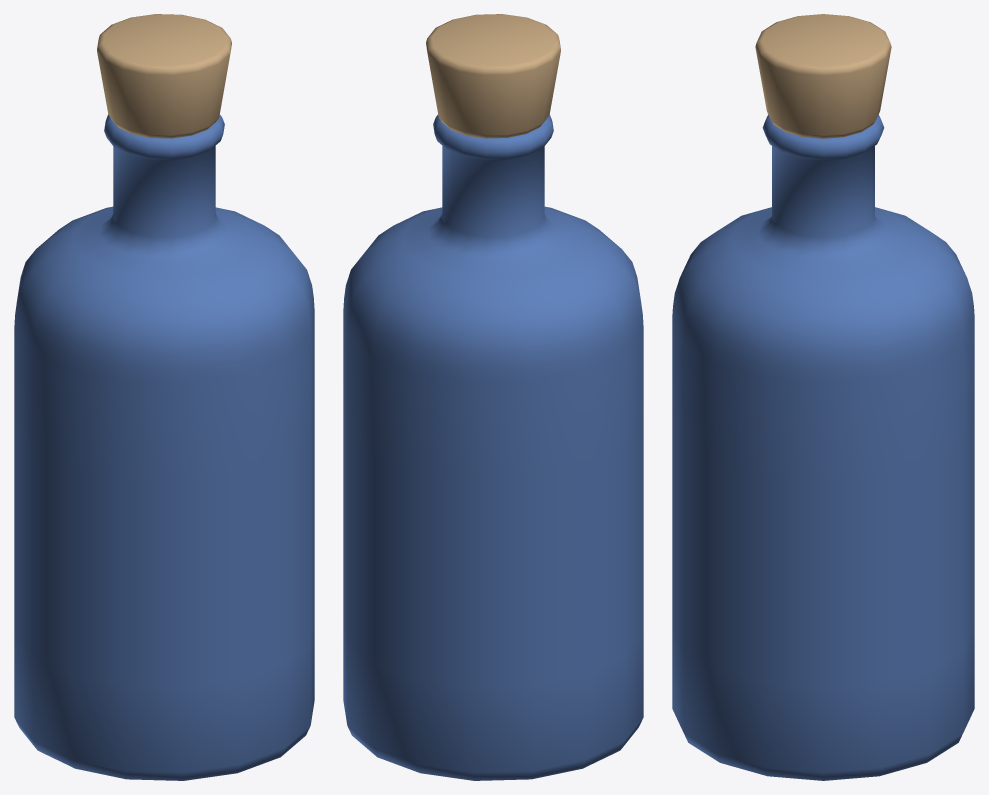
File: Bottle_3.glb
3 views of the same model, side by side, from view 1: azimuth 30°, elevation 25°; view 2: azimuth 150°, elevation 25°; view 3: azimuth 270°, elevation 25° (orthographic).
Parts seen in each view (by area): view 1: Bottle_3_low, Bottle_cork_3_low; view 2: Bottle_3_low, Bottle_cork_3_low; view 3: Bottle_3_low, Bottle_cork_3_low.
Part boxes in pixels (x1,y1,x2,y2): Bottle_3_low: [14, 114, 314, 780]; Bottle_cork_3_low: [97, 14, 231, 138]; Bottle_3_low: [343, 114, 643, 780]; Bottle_cork_3_low: [426, 14, 560, 138]; Bottle_3_low: [672, 115, 974, 780]; Bottle_cork_3_low: [755, 14, 891, 138].
Bounding box in the file's own units: 0.1326 × 0.3304 × 0.1326.
